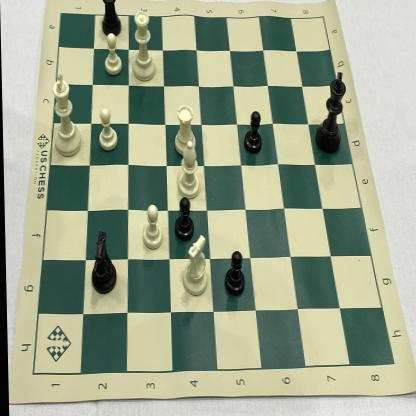black-king: (312, 69, 350, 157)
black-knight: (81, 226, 118, 298)
black-pawn: (221, 249, 247, 299), (171, 192, 196, 243), (240, 109, 264, 158)
black-rook: (98, 0, 125, 41)
white-bishop: (173, 138, 202, 203)
white-king: (46, 68, 84, 161)
white-knight: (179, 233, 213, 297)
white-pawn: (139, 199, 164, 255), (93, 104, 120, 154), (102, 32, 125, 79)
white-queen: (129, 6, 160, 85)
white-rook: (170, 99, 200, 159)
